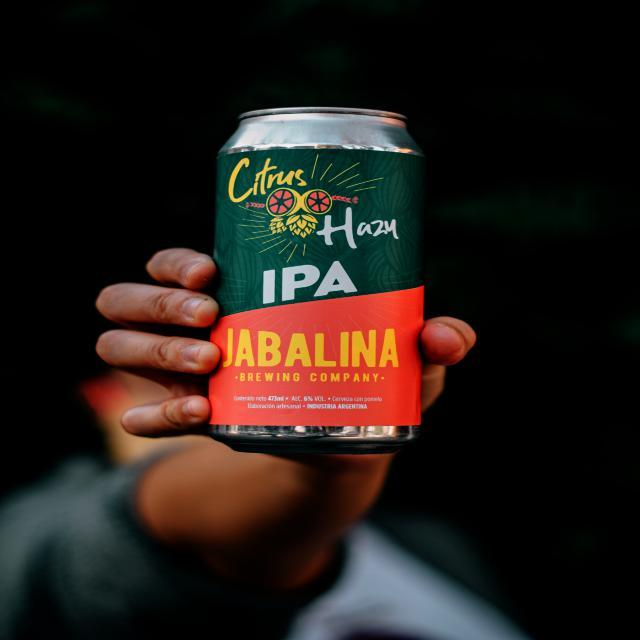can: (170, 87, 442, 465)
